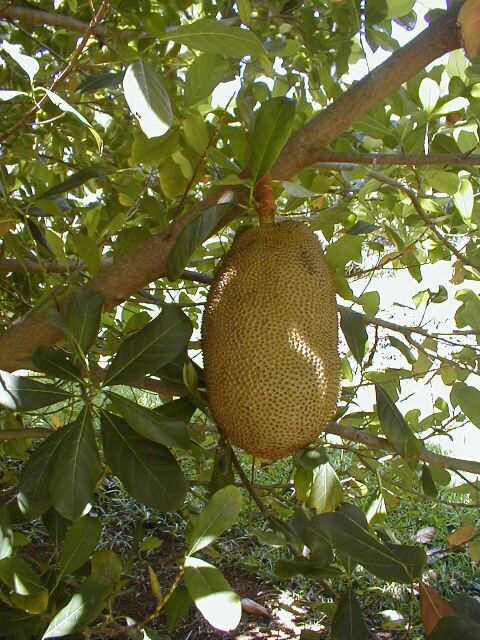jackfruit: (200, 217, 342, 460)
